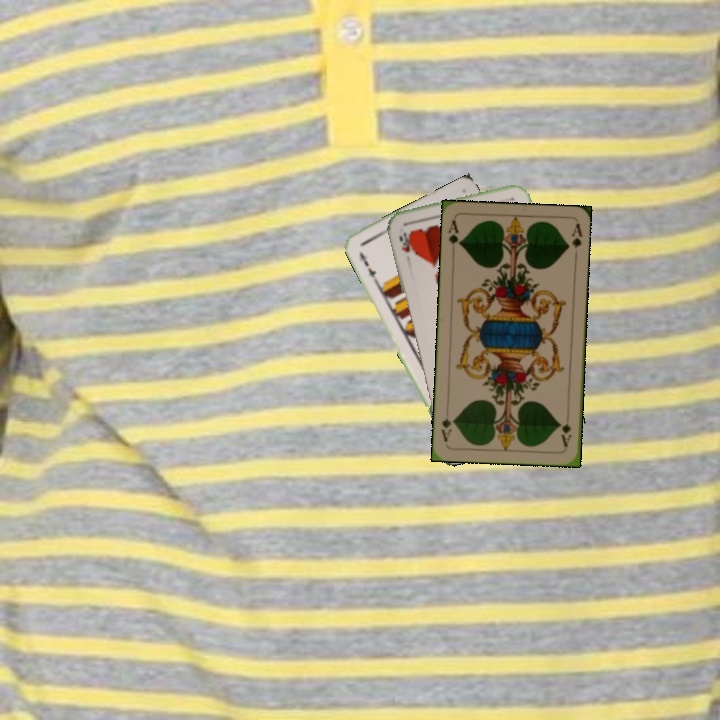E7: (355, 248, 380, 283)
GA: (444, 216, 464, 256), (557, 409, 574, 450)
HO: (395, 228, 415, 255)
